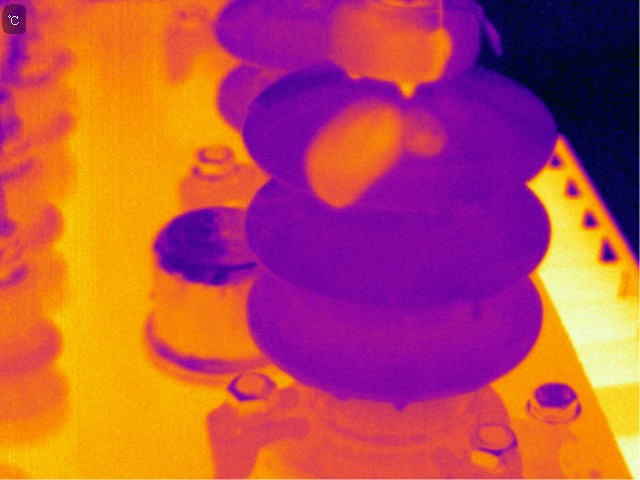Oil: (299, 93, 405, 215), (338, 1, 455, 100), (457, 1, 503, 64), (404, 106, 452, 157), (466, 291, 486, 321), (391, 394, 410, 413)
